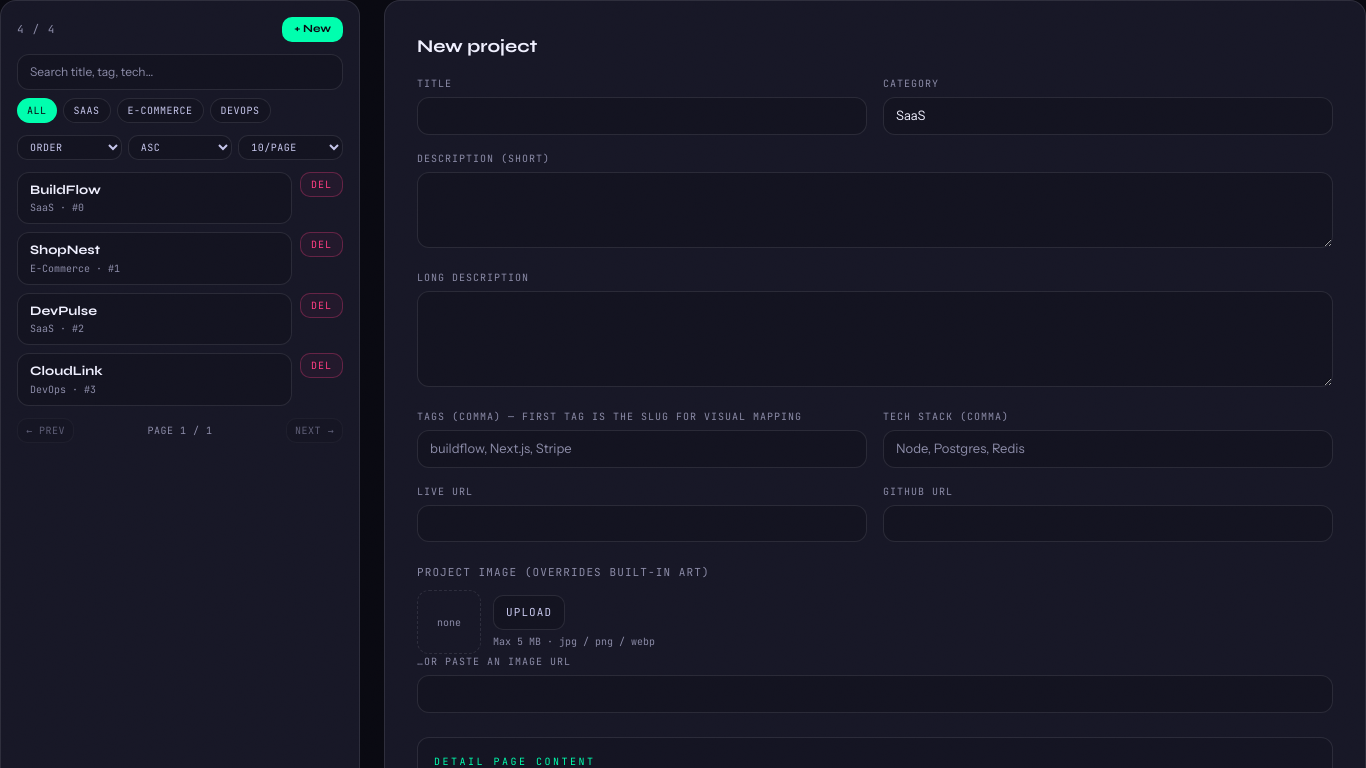
Test: Admin filter UI › ProjectsTab: search narrows visible rows and updates counter
Expected: the text with test id "projects-counter" reads "4 / 4", x1=17 y1=21 x2=56 y2=38
Type "shop" into the field named "Search projects".
click(180, 72); type("shop")  # box x1=17 y1=54 x2=343 y2=90
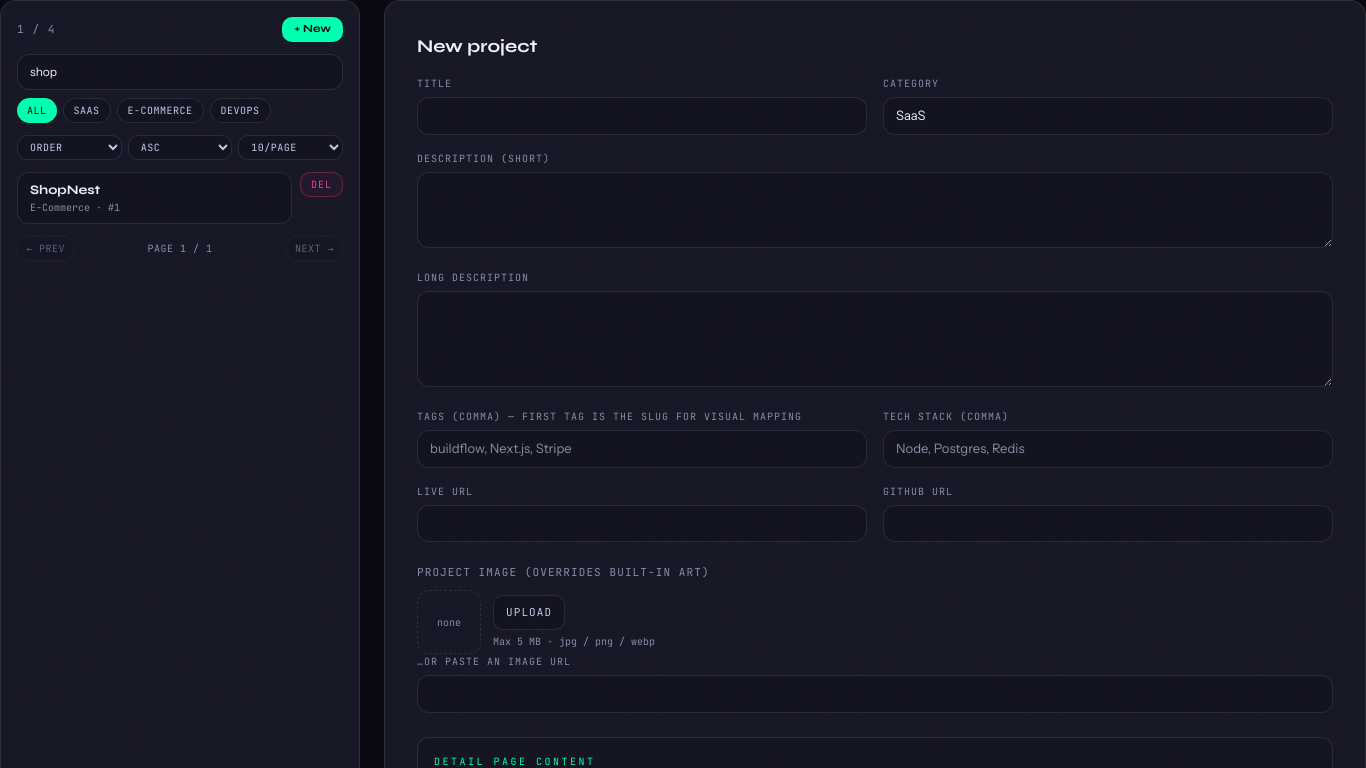
Expected: the text "ShopNest" is shown, x1=30 y1=182 x2=100 y2=198
Expected: the text with test id "projects-counter" reads "1 / 4", x1=17 y1=21 x2=56 y2=38
